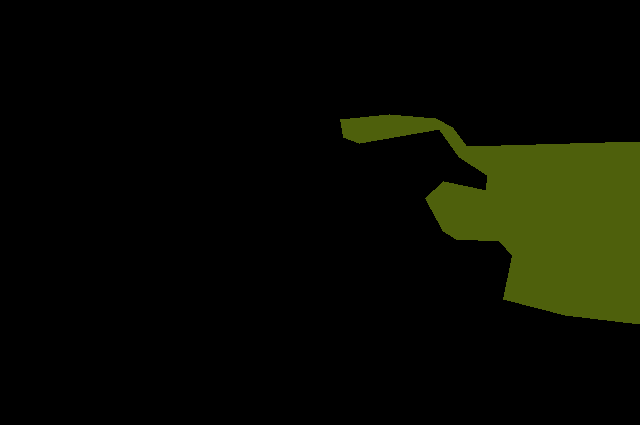Train: (340, 114, 640, 324)
